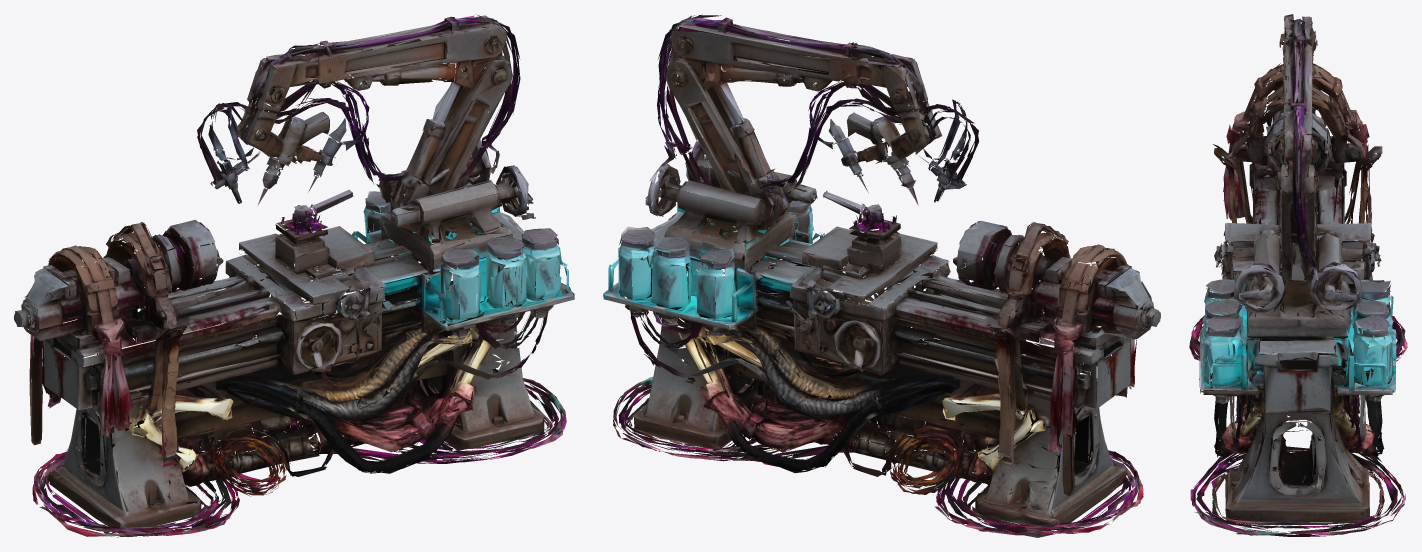
Rendered from meridian_cyber_graft_bench.glb.
3 views of the same model, side by side, from view 1: azimuth 30°, elevation 25°; view 2: azimuth 150°, elevation 25°; view 3: azimuth 270°, elevation 25° (orthographic). The views are drawn at different scales.
Visible parts, largest first — view 1: node_0; view 2: node_0; view 3: node_0.
Part boxes in pixels (bbox=[...]): node_0: bbox=[14, 14, 574, 537]; node_0: bbox=[603, 14, 1160, 537]; node_0: bbox=[1189, 14, 1407, 536].
Size of the model in its own units: 0.9753 by 0.7239 by 0.3561.
1 material, 1 textured.
